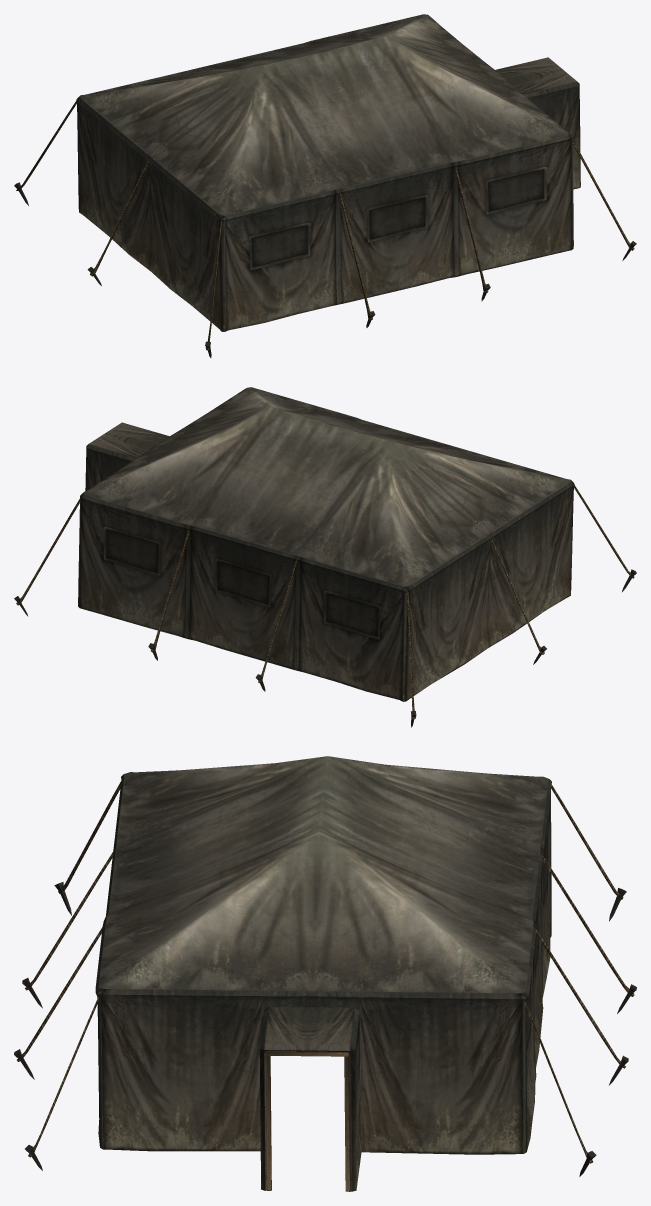
File: Tent.obj
3 renders of one model, top to bottom at view 1: azimuth 30°, elevation 25°; view 2: azimuth 150°, elevation 25°; view 3: azimuth 270°, elevation 25°, orthographic. The views are drawn at different scales.
Parts seen in each view (by area): view 1: Mesh_0157.rip; view 2: Mesh_0157.rip; view 3: Mesh_0157.rip.
Part boxes in pixels (left/top/right/bottom): Mesh_0157.rip: left=14, top=14, right=636, bottom=357; Mesh_0157.rip: left=14, top=387, right=636, bottom=727; Mesh_0157.rip: left=14, top=756, right=636, bottom=1191.
Size of the model in its own units: 474 by 185 by 404.
1 material, 1 textured.
